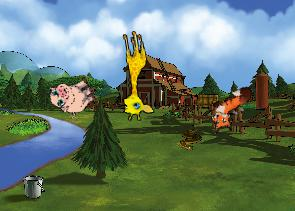fox: (201, 83, 263, 137)
giraffe: (111, 29, 155, 122)
pig: (45, 69, 100, 122)
